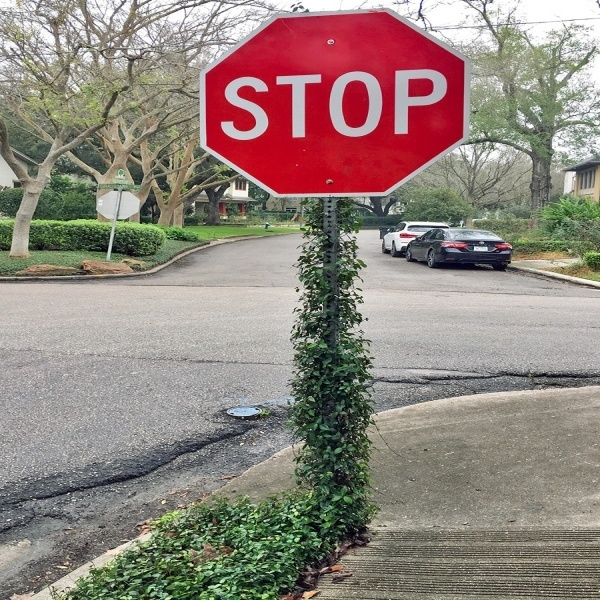stop: (196, 13, 472, 201)
